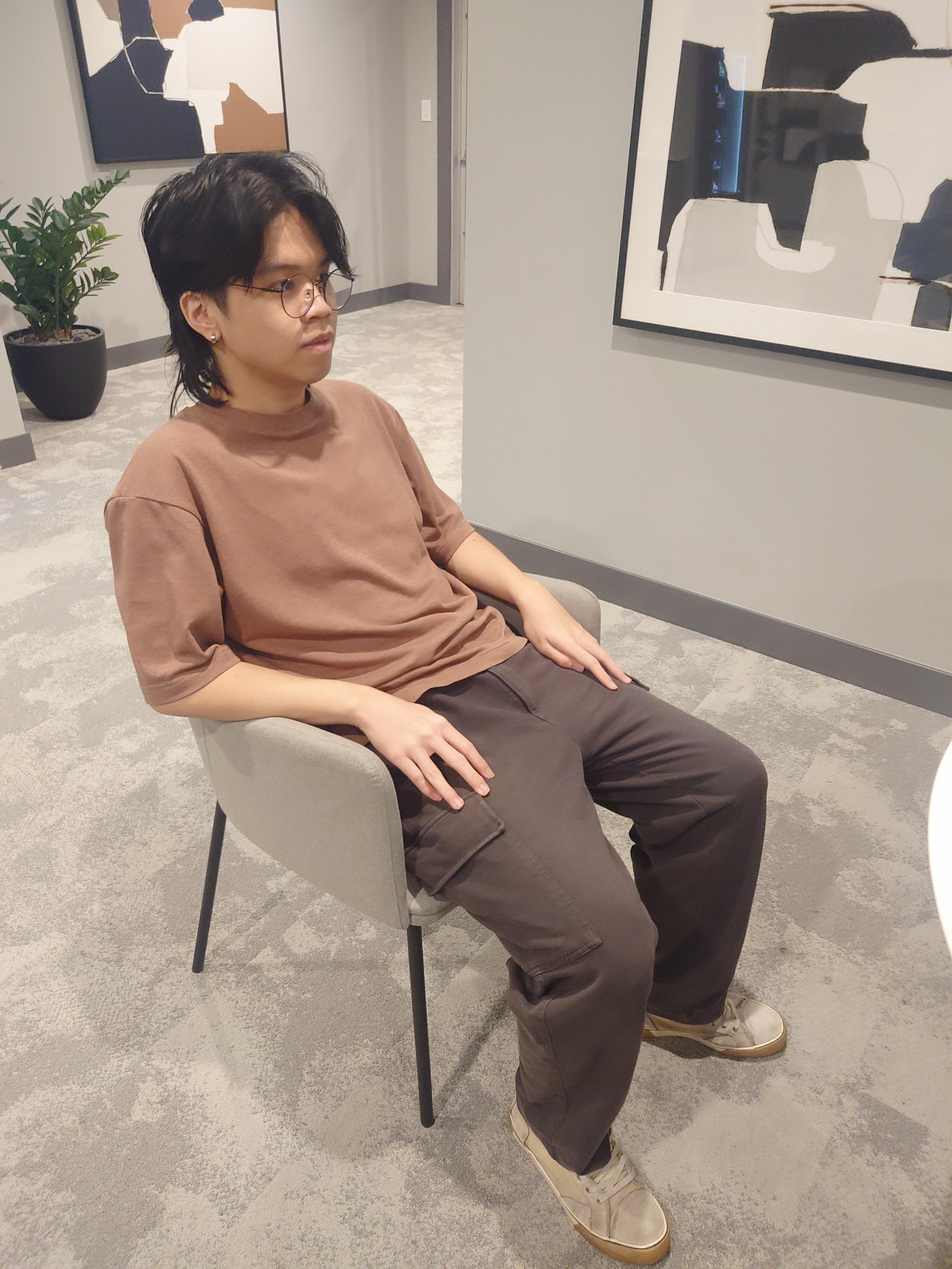BadPosture: (104, 149, 787, 1267)
